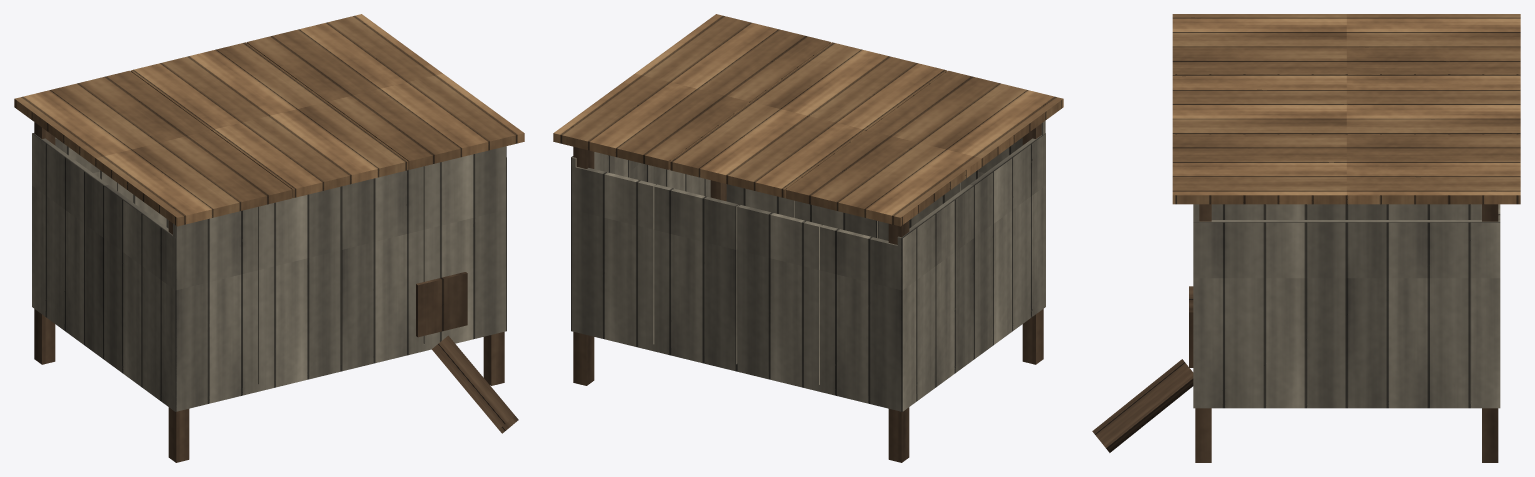
The model's file is Coop_1_LOD1.gltf.
The picture shows the model from 3 angles, left to right: view 1: azimuth 30°, elevation 25°; view 2: azimuth 150°, elevation 25°; view 3: azimuth 270°, elevation 25°; orthographic projection. The views are drawn at different scales.
Parts seen in each view (by area): view 1: Coop_1_LOD1; view 2: Coop_1_LOD1; view 3: Coop_1_LOD1.
Boxes of the visible parts, x1=… form: Coop_1_LOD1: x1=14, y1=14, x2=524, y2=462; Coop_1_LOD1: x1=553, y1=14, x2=1063, y2=462; Coop_1_LOD1: x1=1092, y1=14, x2=1520, y2=462.
Bounding box in the file's own units: 2.09 × 1.54 × 2.09.
Materials: 4 (4 with a texture image).
